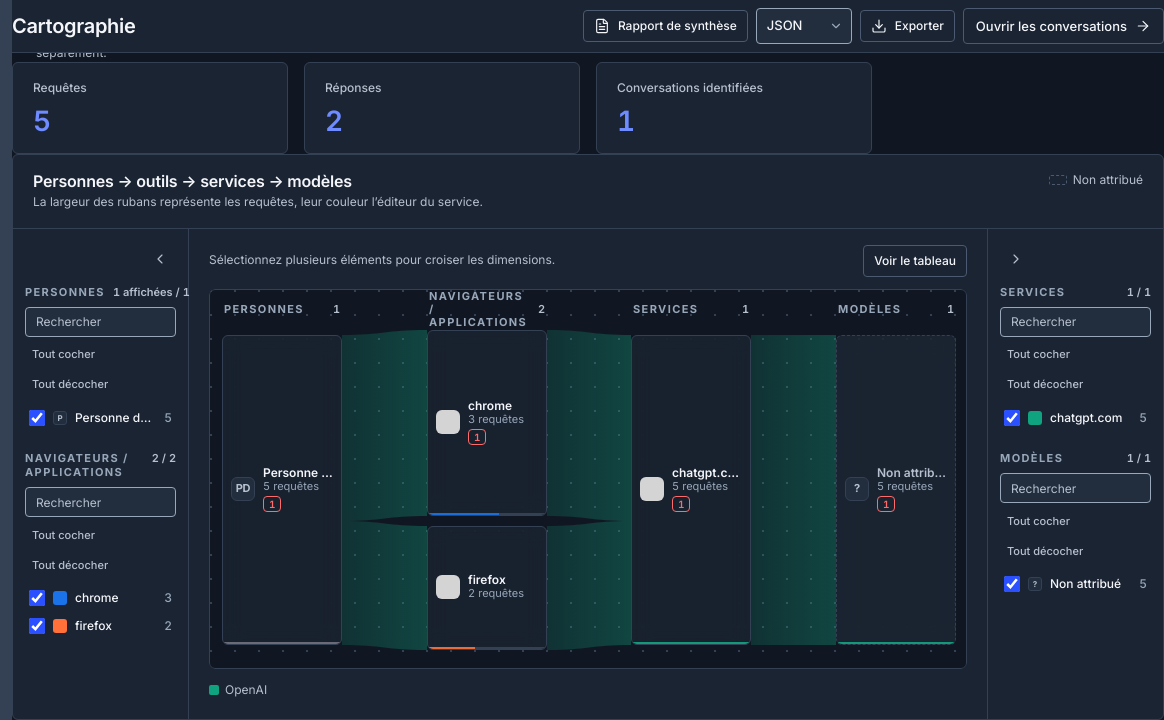
Scenario: Shadow AI workflows › cross-filters the side panels and names the kept values in the journal link
(page scrolled)
Click the checkbox named "firefox · 2 requêtes": (37, 626) [29, 618, 45, 634]
(page scrolled)
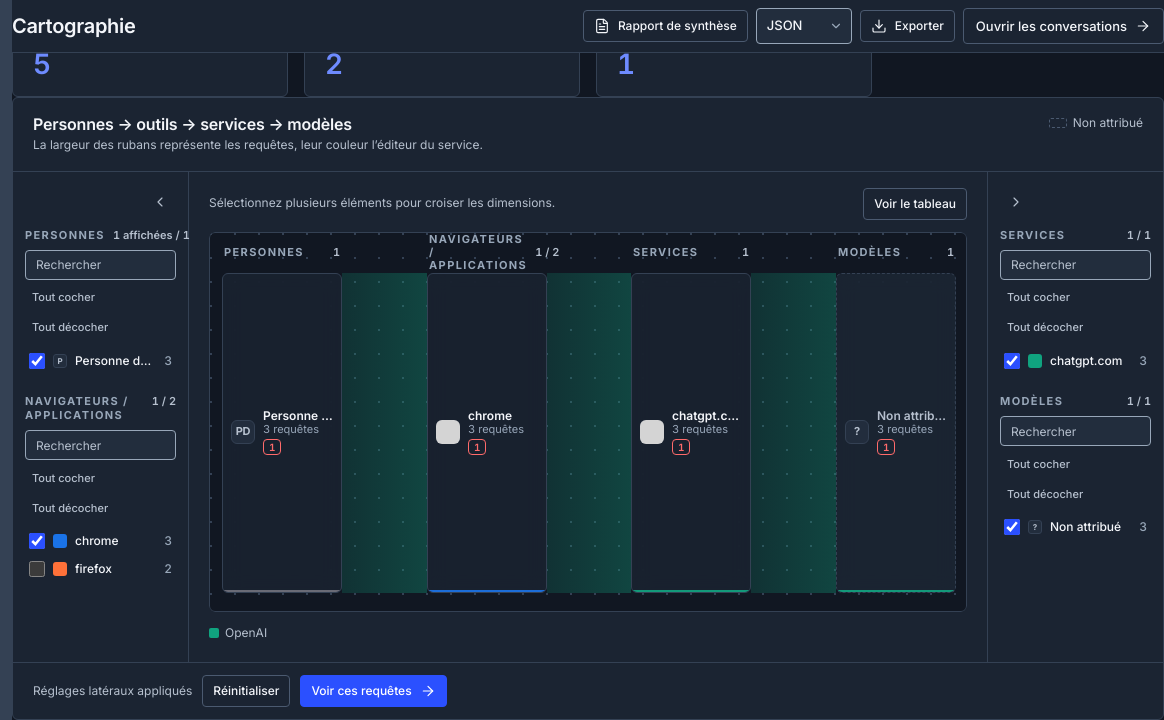
Result: the button named "Personne de test · 3 requêtes" is shown at [222, 273, 342, 593]
Result: the text "Réglages latéraux appliqués" is shown at [33, 682, 192, 700]
Click the button "Réinitialiser": (246, 691) [202, 675, 290, 707]
(page scrolled)
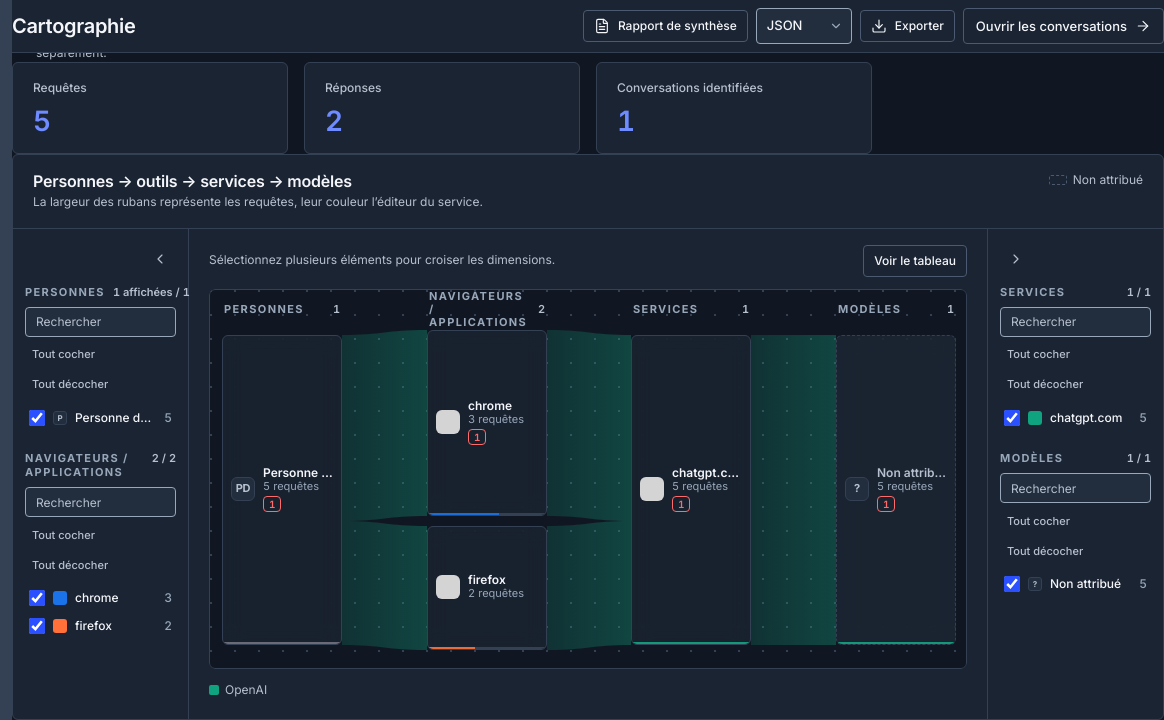
Result: the button named "firefox · 2 requêtes" is shown at [427, 526, 547, 650]
